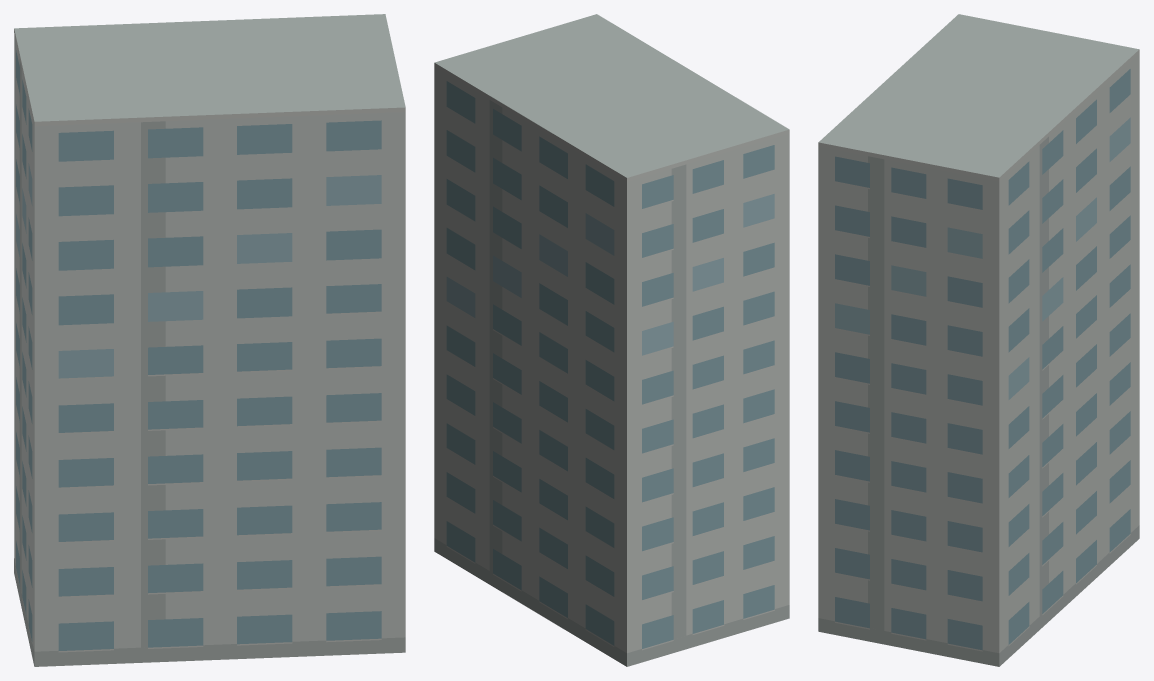
Rendered from residential-febd6259-ffc0-4229-aec2-ea7ba823ab86.glb.
3 views of the same model, side by side, from view 1: azimuth 30°, elevation 25°; view 2: azimuth 150°, elevation 25°; view 3: azimuth 270°, elevation 25° (orthographic). The views are drawn at different scales.
Parts seen in each view (by area): view 1: residential-febd6259-ffc0-4229-aec2-ea7ba823ab86.tmp; view 2: residential-febd6259-ffc0-4229-aec2-ea7ba823ab86.tmp; view 3: residential-febd6259-ffc0-4229-aec2-ea7ba823ab86.tmp.
Boxes of the visible parts, bbox=[...] form: residential-febd6259-ffc0-4229-aec2-ea7ba823ab86.tmp: bbox=[14, 14, 405, 666]; residential-febd6259-ffc0-4229-aec2-ea7ba823ab86.tmp: bbox=[434, 14, 789, 666]; residential-febd6259-ffc0-4229-aec2-ea7ba823ab86.tmp: bbox=[818, 14, 1139, 666].
Bounding box in the file's own units: 20.81 × 29 × 17.27.
